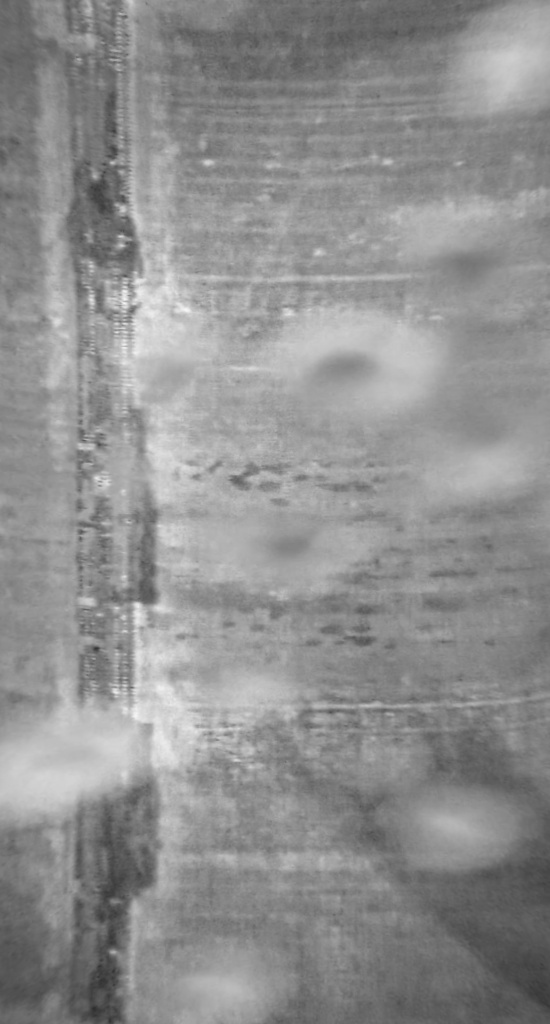splice: (59, 1, 156, 1024)
